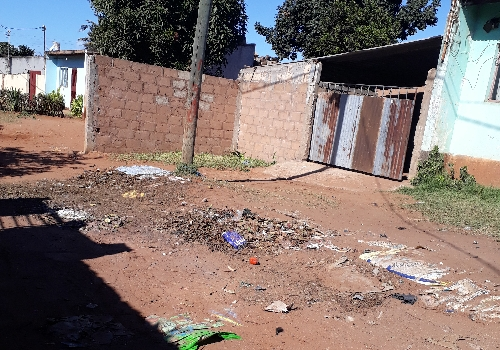trash: (119, 280, 245, 342), (363, 240, 452, 278), (220, 225, 258, 268)
